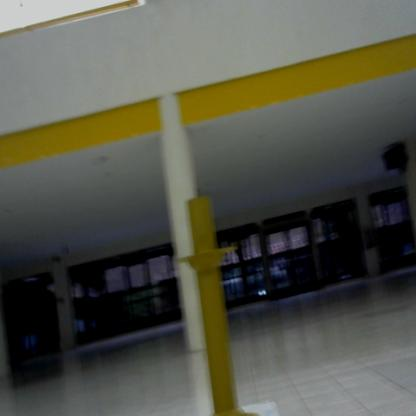pole: (175, 189, 250, 416)
